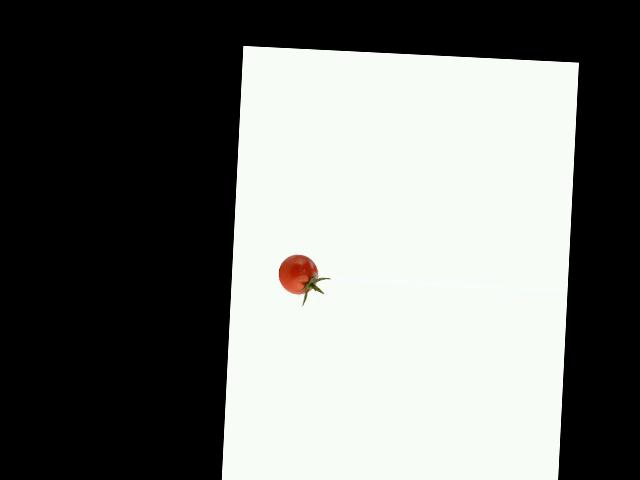tomato: (277, 253, 318, 294)
